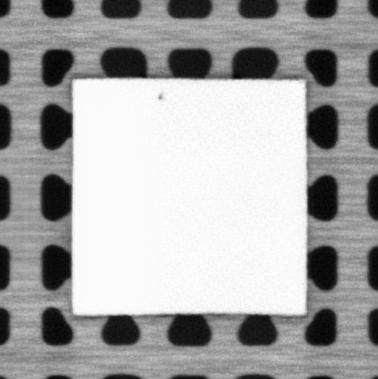DIE_INK: (153, 89, 165, 102)
